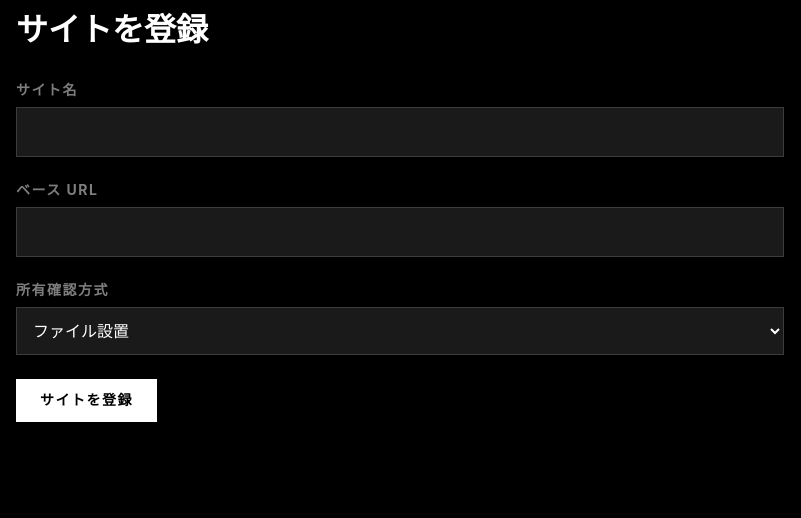
Test: pages/sites/new › 登録エラーはメッセージを表示する
Type "dup" into the field with test id "field-name" at (400, 132), box [16,107,784,157]
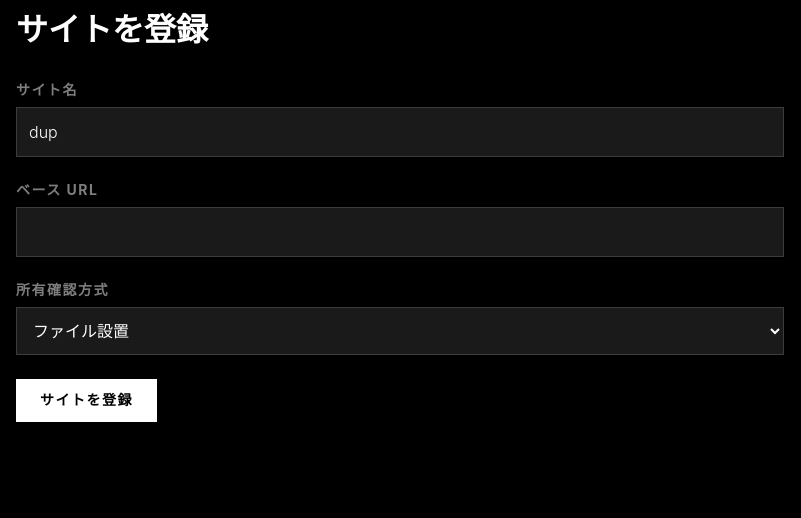
Type "http://localhost:3001" into the field with test id "field-base-url" at (400, 232), box [16,207,784,257]
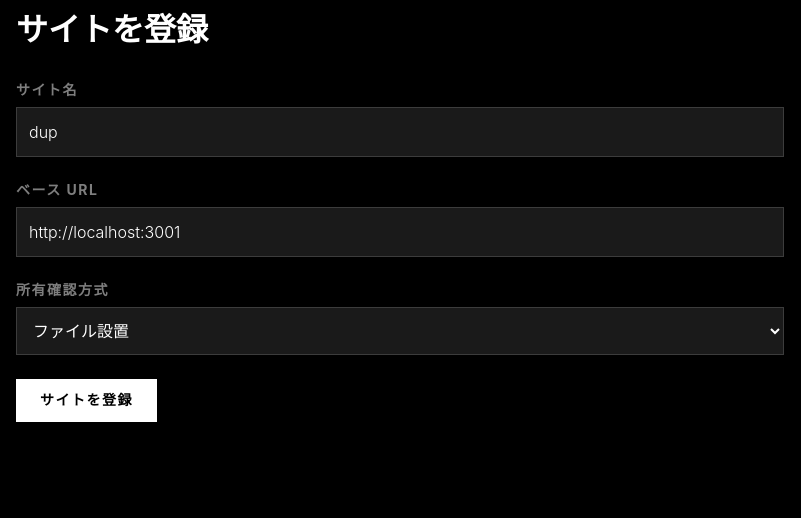
Submit the form
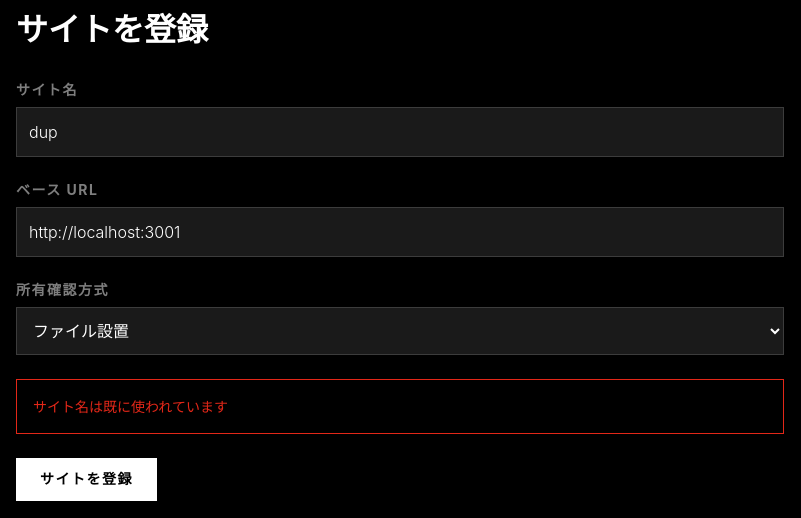
Result: the text "サイト名は既に使われています" is shown at [16,379,784,434]
